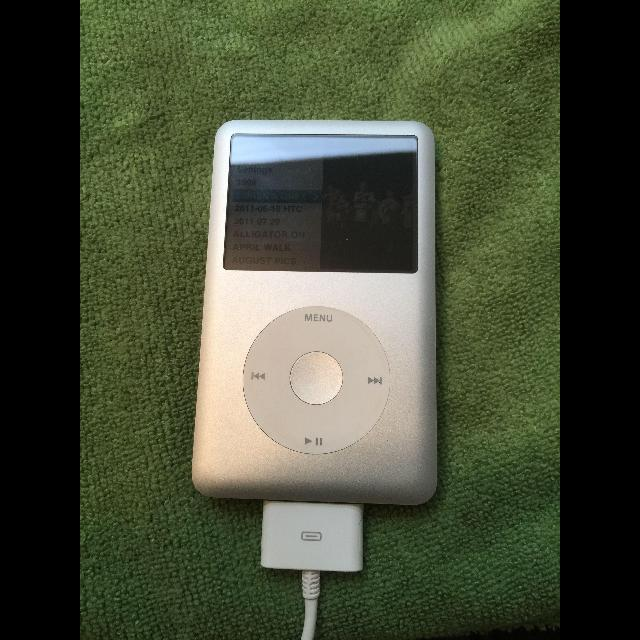Music-Player: (176, 104, 450, 512)
